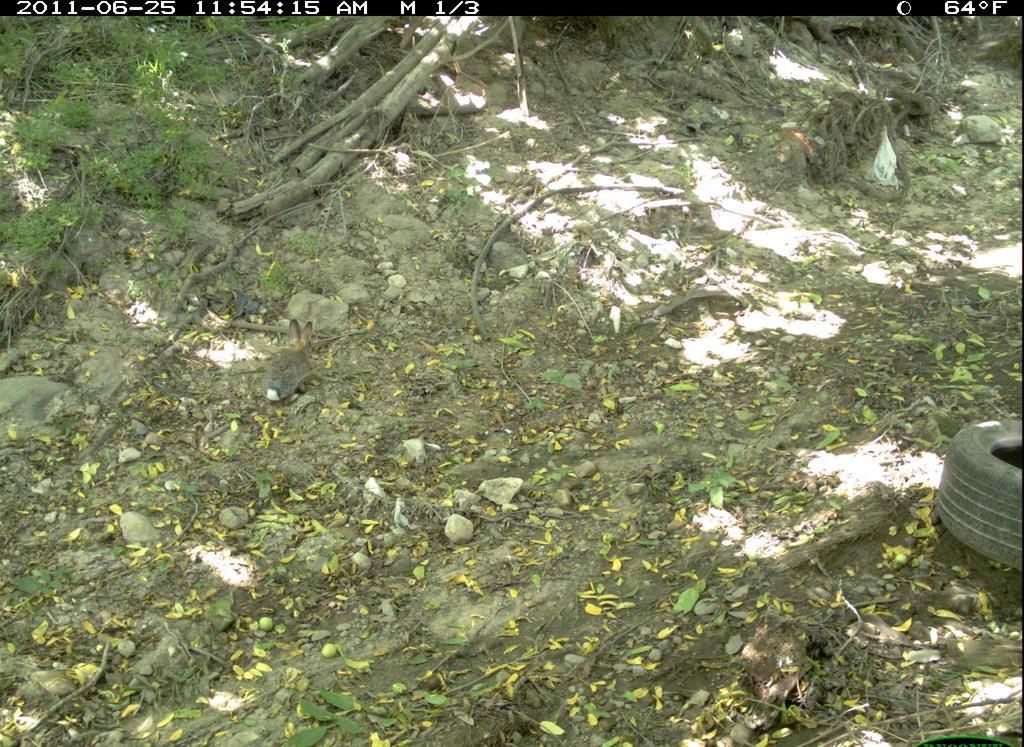rabbit: (251, 315, 326, 401)
